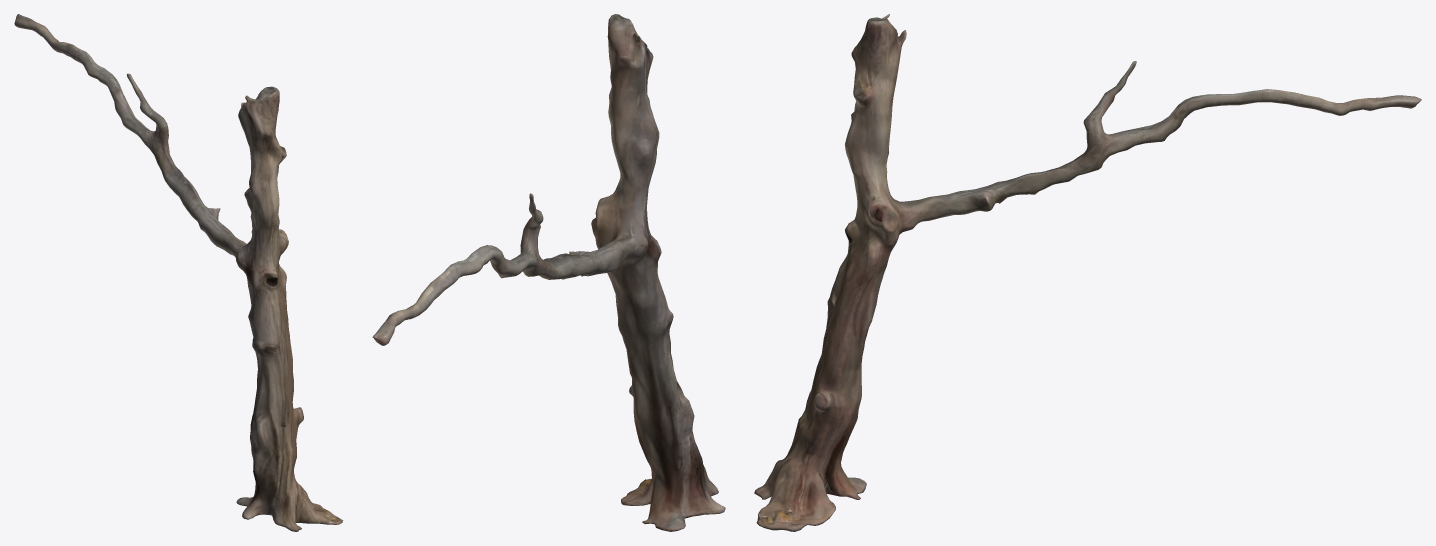
The model's file is branch.glb.
3 renders of one model, left to right at view 1: azimuth 30°, elevation 25°; view 2: azimuth 150°, elevation 25°; view 3: azimuth 270°, elevation 25°, orthographic. The views are drawn at different scales.
Visible parts, largest first — view 1: branch_00; view 2: branch_00; view 3: branch_00.
Part boxes in pixels (x1=…): branch_00: x1=14, y1=14, x2=343, y2=531; branch_00: x1=372, y1=14, x2=725, y2=531; branch_00: x1=754, y1=14, x2=1421, y2=531.
Size of the model in its own units: 0.3465 by 1.64 by 2.
Materials: 1 (1 with a texture image).
